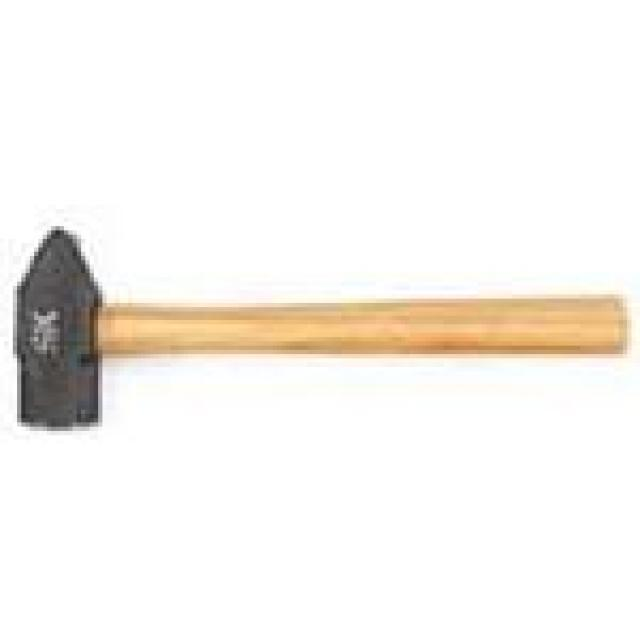hammer: (1, 216, 632, 436)
